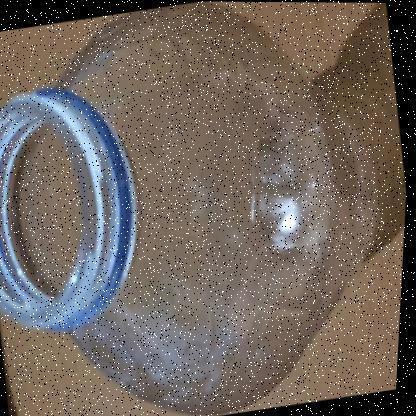open bottle: (1, 1, 352, 416)
